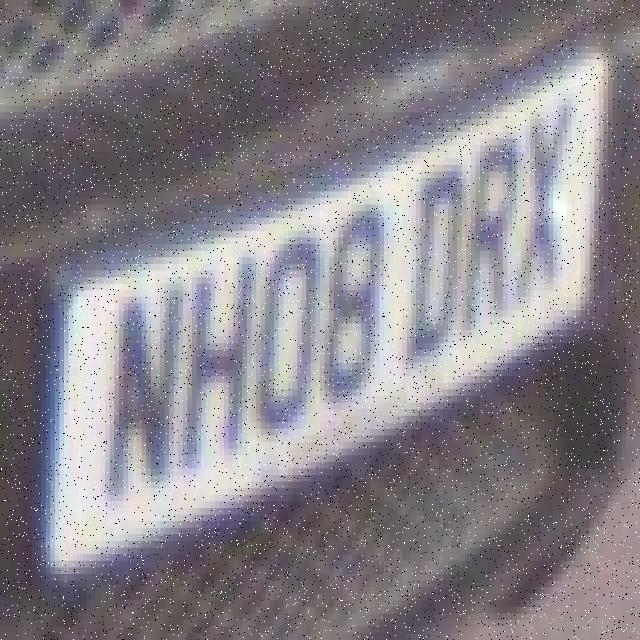licenseplate: (31, 29, 626, 554)
